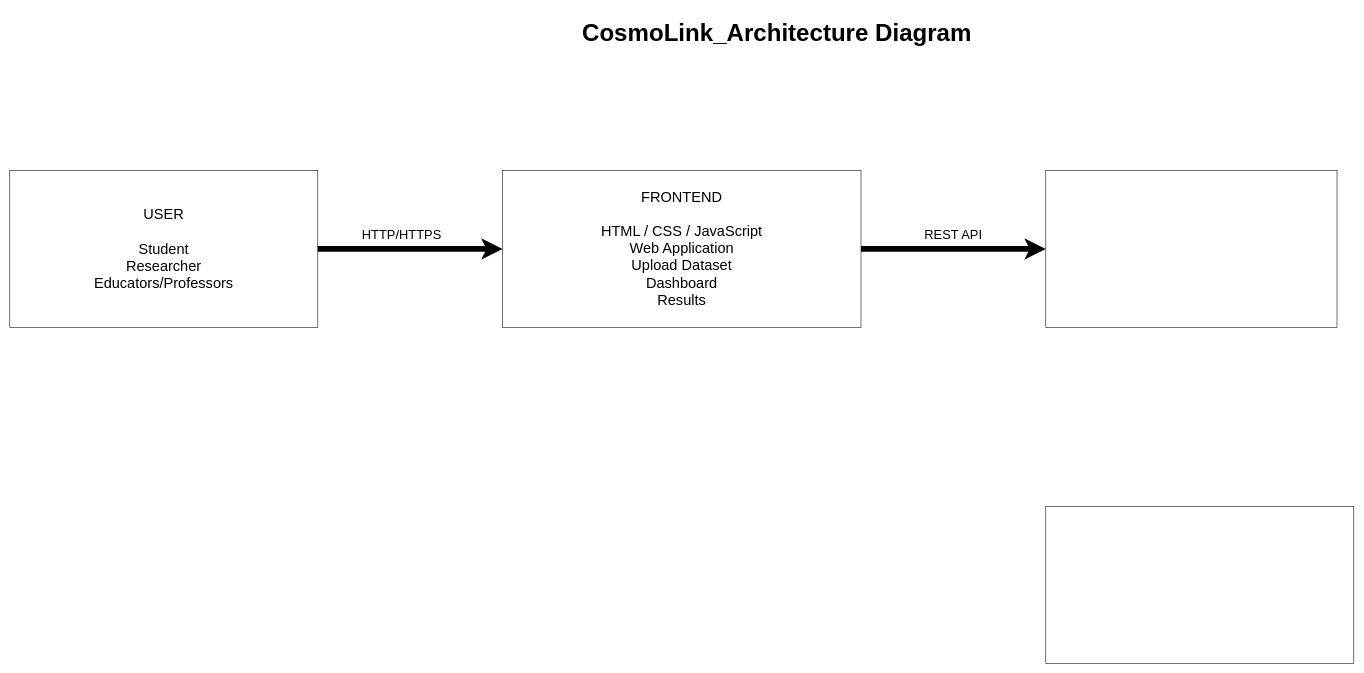
Image size: 1364x673. Some labels were removed from this diagram. The box of each missing label's shape, as (x1, y1, x2, y2) in pixels:
BACKEND FastAPI REST API Authentication Dataset Validation Business Logic: (1045, 170, 1337, 327)
MISTREE ENGINE Minimum Spanning Tree Filament Detection Graph Processing: (1045, 506, 1354, 663)
